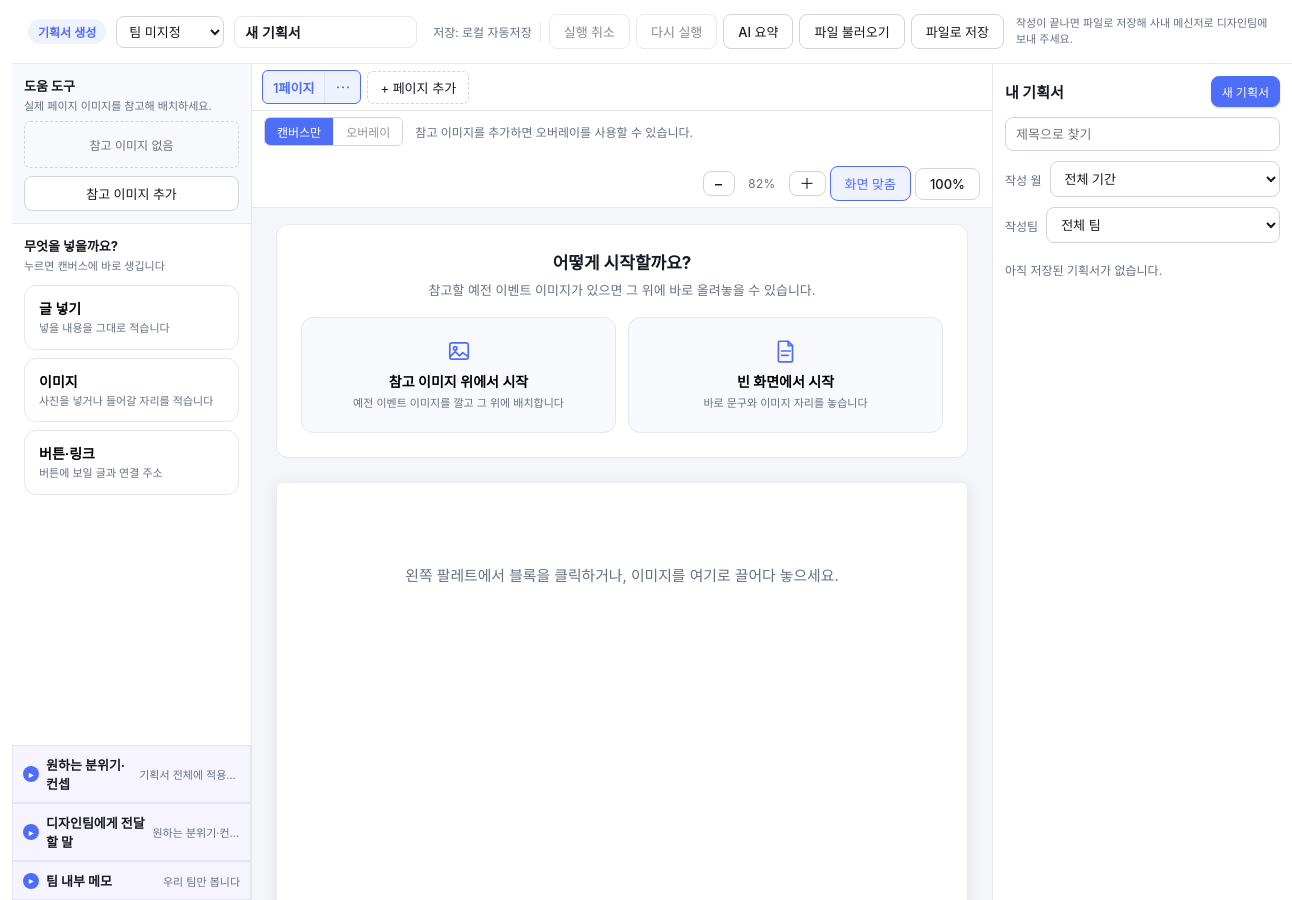
Test: §3.1 문구 블록 본체는 문구만 › draws no kind badge and no label line inside the block box
Click the button "글 넣기 넣을 내용을 그대로 적습니다".
click(132, 317)  # box [24,285,239,350]
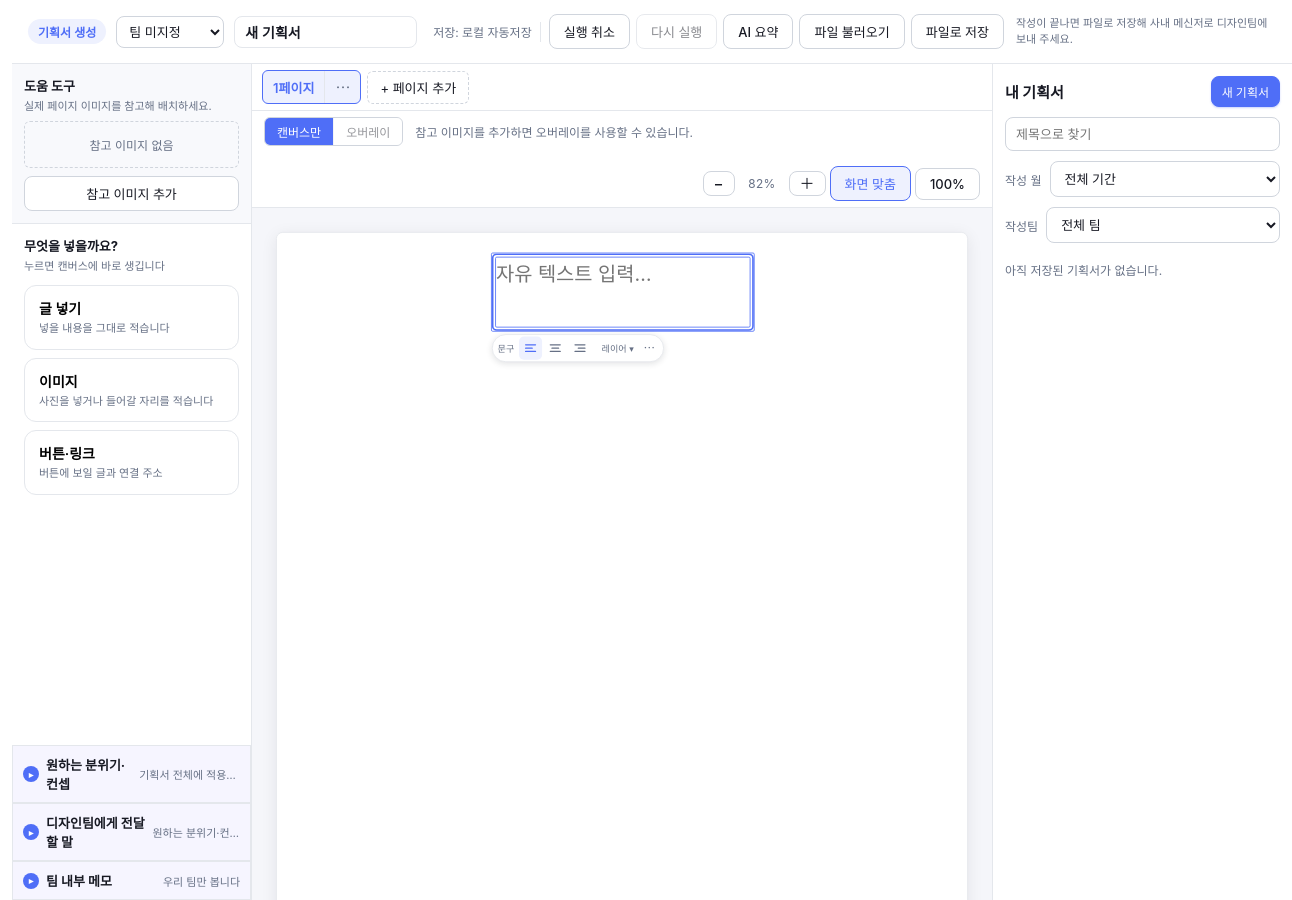
Type "여름 특가" into the text box named "문구 내용".
click(623, 292); type("여름 특가")  # box [495,257,750,328]
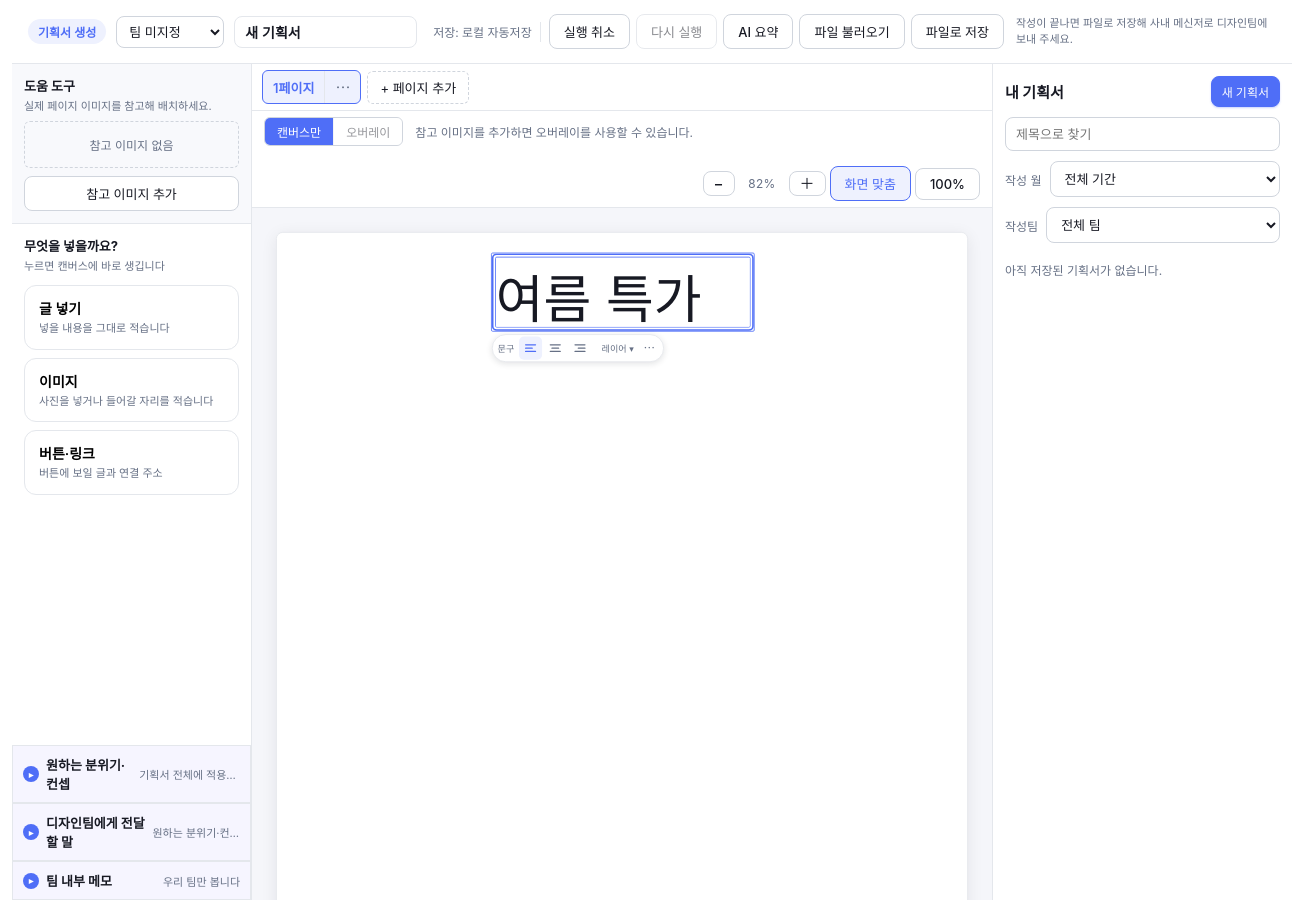
Type keys "{Control>}{Enter}{/Control}"
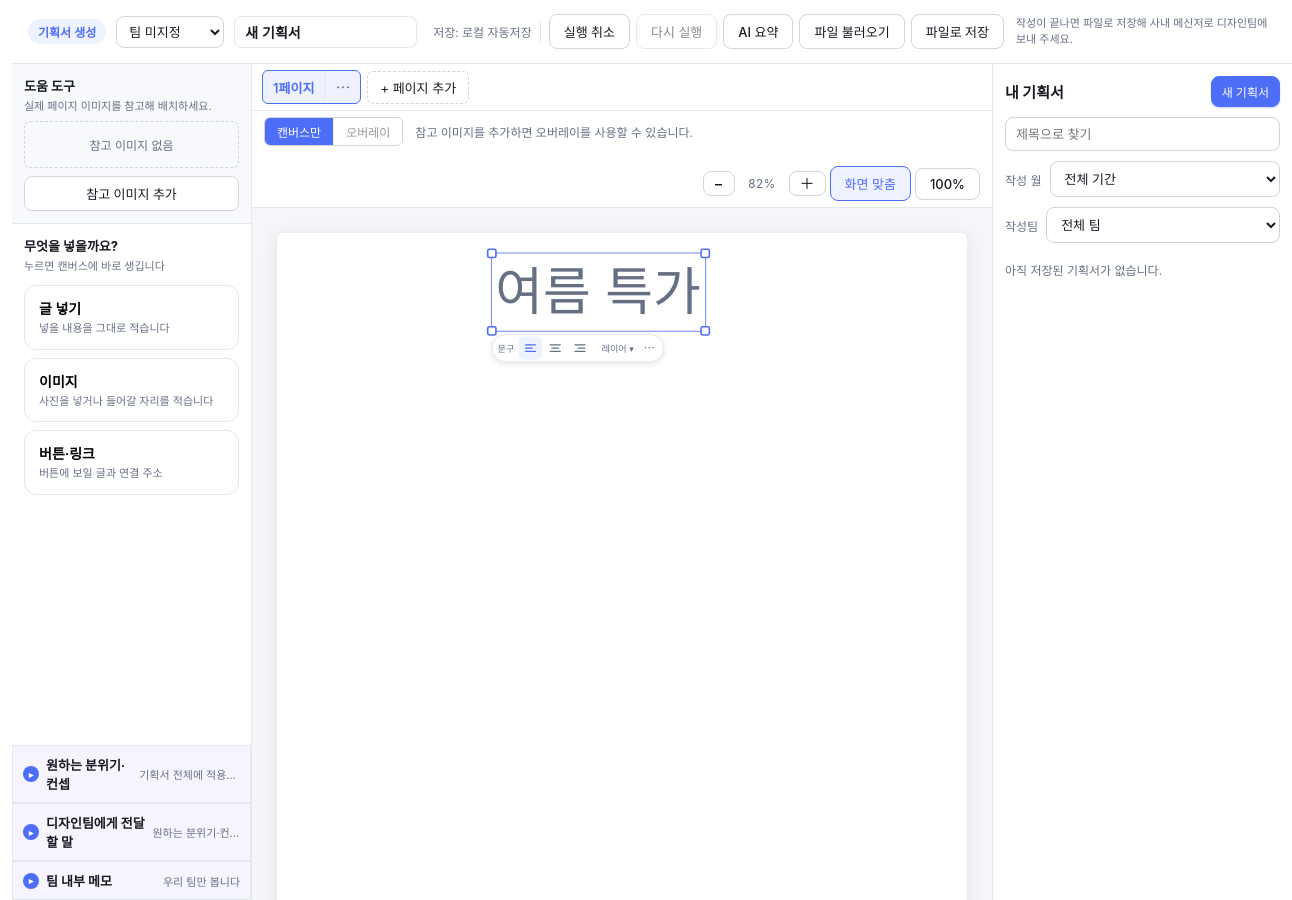
Expected: the text with class "block-card__content" reads "여름 특가", [495,260,701,323]
